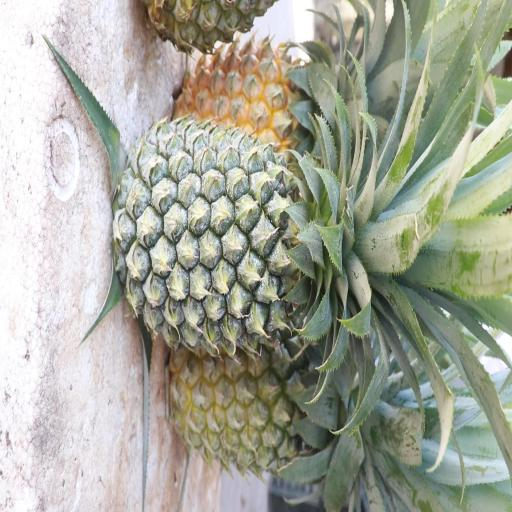------------------------------: (168, 329, 365, 475)
Pineapple - v8 v1: (176, 35, 344, 158)
